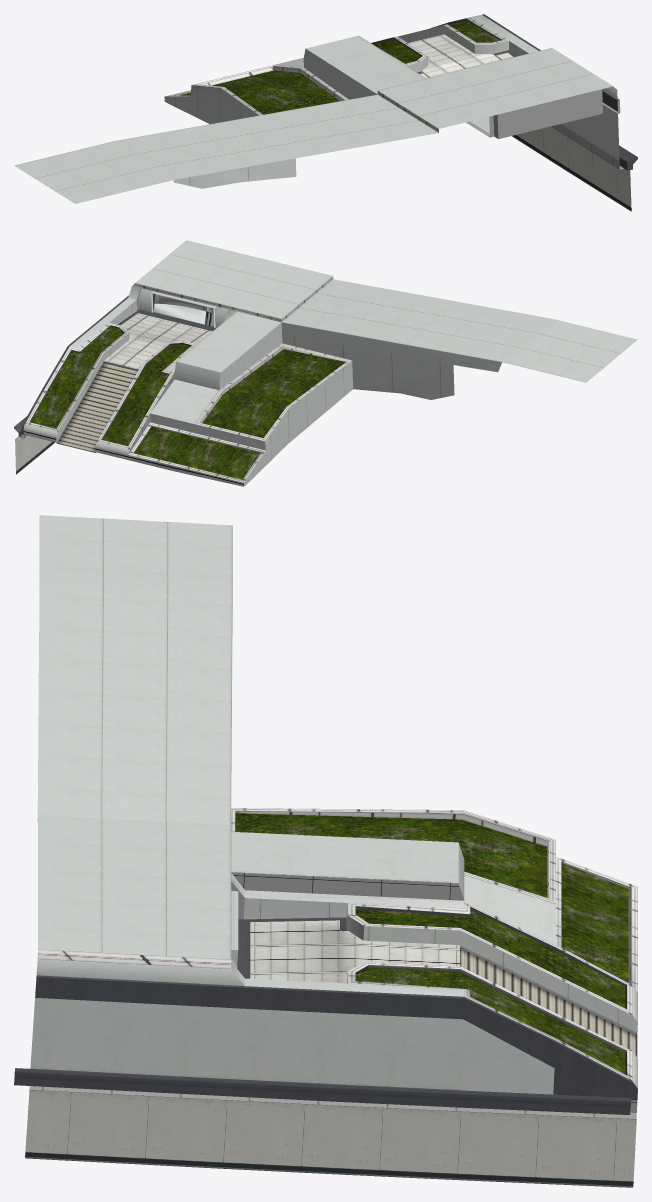
File: STA20_52.FBX
3 renders of one model, top to bottom at view 1: azimuth 30°, elevation 25°; view 2: azimuth 150°, elevation 25°; view 3: azimuth 270°, elevation 25°, orthographic. The views are drawn at different scales.
Parts seen in each view (by area): view 1: STA20_52; view 2: STA20_52; view 3: STA20_52.
Part boxes in pixels (bbox=[...]): STA20_52: bbox=[14, 14, 637, 211]; STA20_52: bbox=[14, 240, 637, 486]; STA20_52: bbox=[14, 515, 637, 1187].
Bounding box in the file's own units: 77.11 × 20.94 × 47.67.
